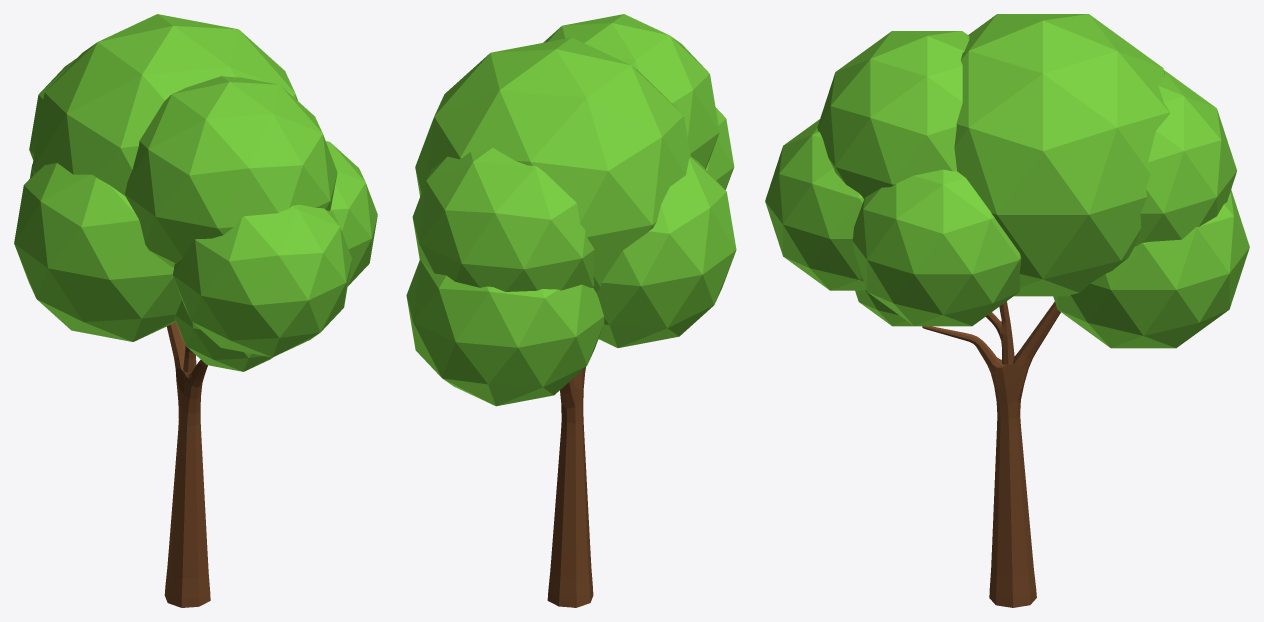
File: Arbolv2.fbx
The picture shows the model from 3 angles, left to right: view 1: azimuth 30°, elevation 25°; view 2: azimuth 150°, elevation 25°; view 3: azimuth 270°, elevation 25°; orthographic projection. The views are drawn at different scales.
Parts seen in each view (by area): view 1: Icosphere.003, Cube; view 2: Icosphere.003, Cube; view 3: Icosphere.003, Cube.
Boxes of the visible parts, x1,y1,x2,y2 form: Icosphere.003: (14,14,377,371); Cube: (164,322,210,607); Icosphere.003: (406,14,736,406); Cube: (547,367,593,607); Icosphere.003: (765,14,1249,348); Cube: (922,301,1060,607).
Bounding box in the file's own units: 349 × 637 × 482.
